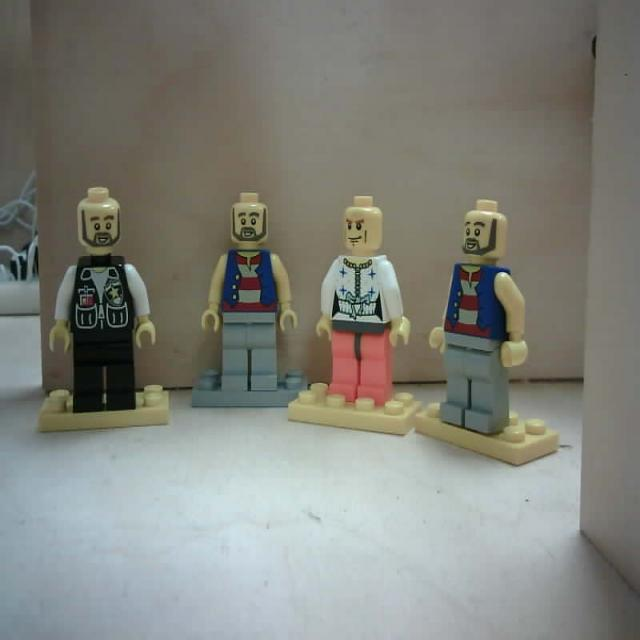Lego-People: (414, 193, 562, 471), (284, 182, 429, 443), (35, 174, 173, 436), (185, 168, 311, 416)
